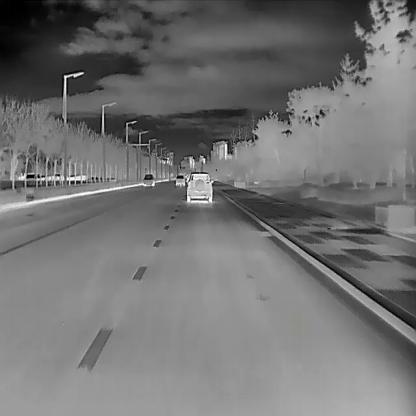car: (186, 172, 213, 202), (142, 173, 154, 186), (175, 174, 185, 185)
